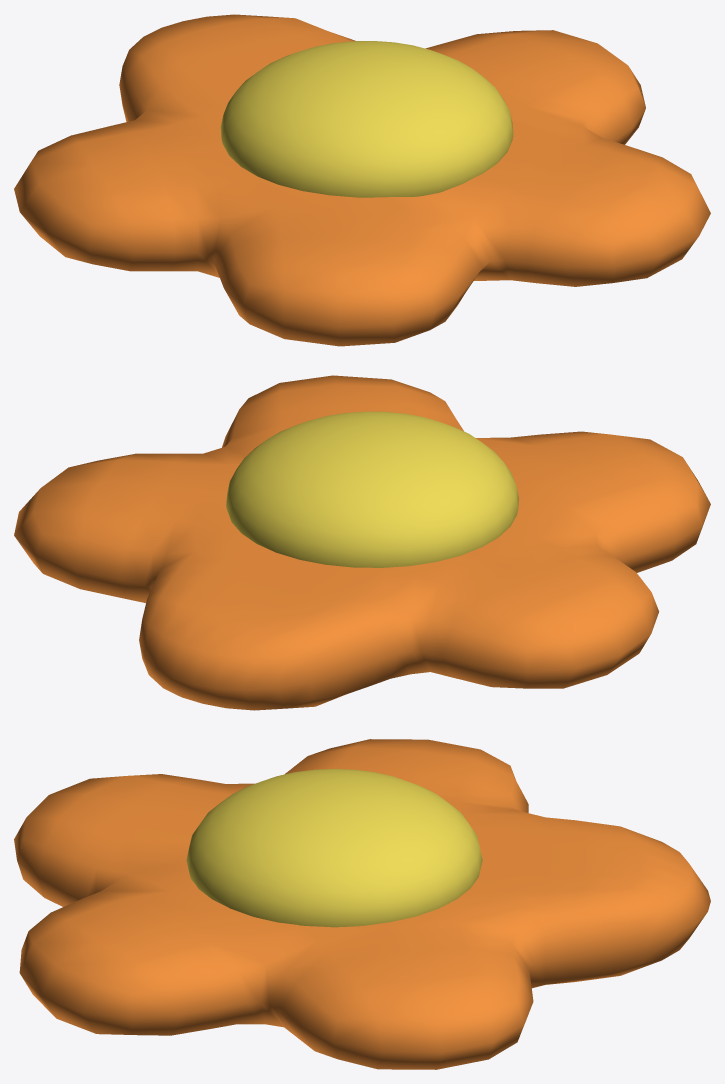
Rendered from flower3.fbx.
The picture shows the model from 3 angles, top to bottom: view 1: azimuth 30°, elevation 25°; view 2: azimuth 150°, elevation 25°; view 3: azimuth 270°, elevation 25°; orthographic projection.
Parts seen in each view (by area): view 1: flower4; view 2: flower4; view 3: flower4.
Part boxes in pixels (<box>): flower4: <box>14,14,710,346</box>; flower4: <box>14,375,710,710</box>; flower4: <box>14,739,710,1069</box>.
Size of the model in its own units: 104 by 24.87 by 104.
